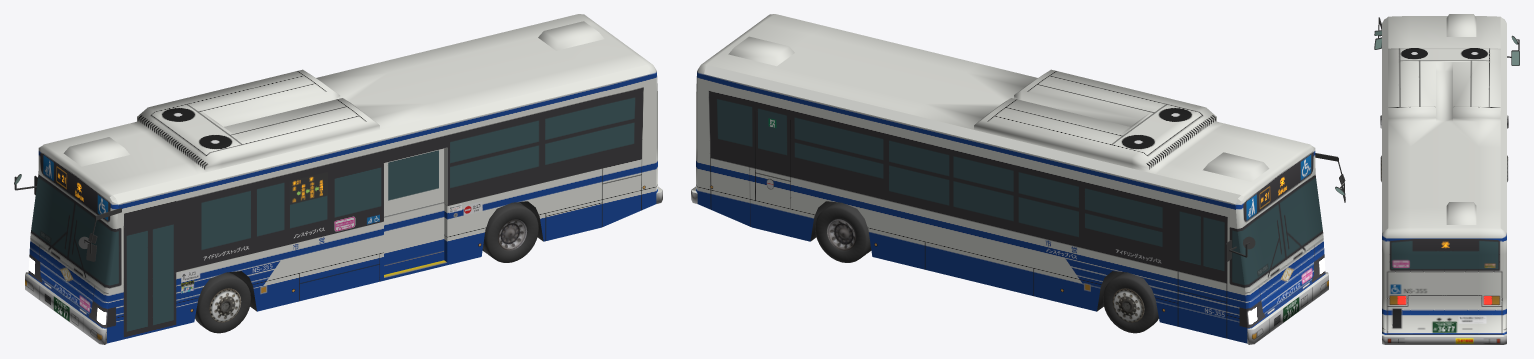
File: Public-Bus.glb
3 renders of one model, left to right at view 1: azimuth 30°, elevation 25°; view 2: azimuth 150°, elevation 25°; view 3: azimuth 270°, elevation 25°, orthographic. The views are drawn at different scales.
Parts seen in each view (by area): view 1: Cube.004_Nagoya_0; view 2: Cube.004_Nagoya_0; view 3: Cube.004_Nagoya_0.
Boxes of the visible parts, left/top/right/bottom form: Cube.004_Nagoya_0: left=14, top=14, right=662, bottom=344; Cube.004_Nagoya_0: left=691, top=14, right=1345, bottom=344; Cube.004_Nagoya_0: left=1374, top=14, right=1519, bottom=344.
Bounding box in the file's own units: 10.88 × 3.11 × 2.9.
Materials: 1 (1 with a texture image).
